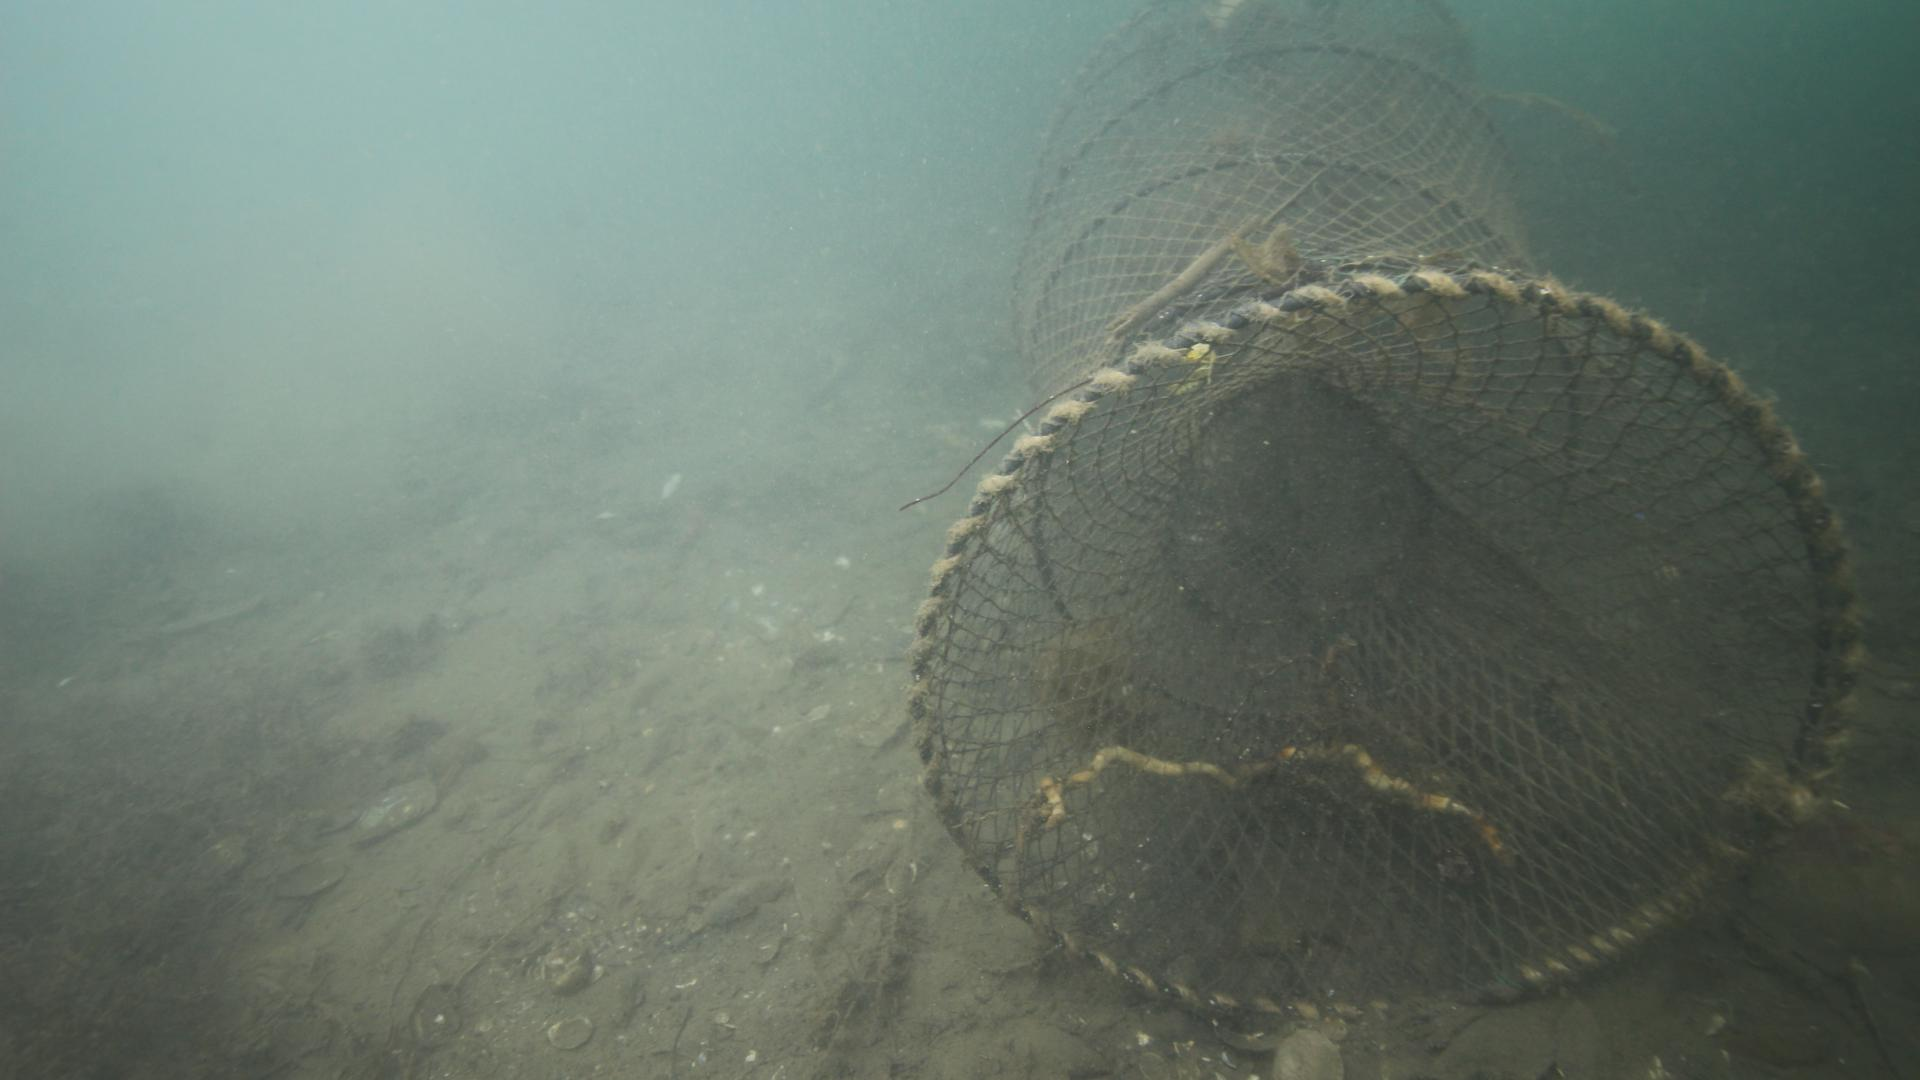spring fish trap: (899, 0, 1859, 1027)
